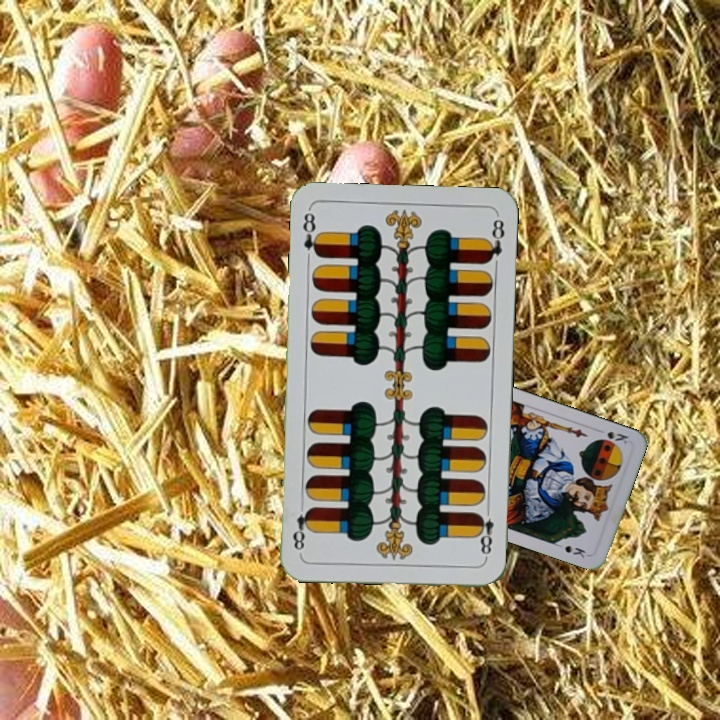E8: (473, 502, 496, 561), (298, 207, 323, 260)
SK: (592, 425, 632, 447)
